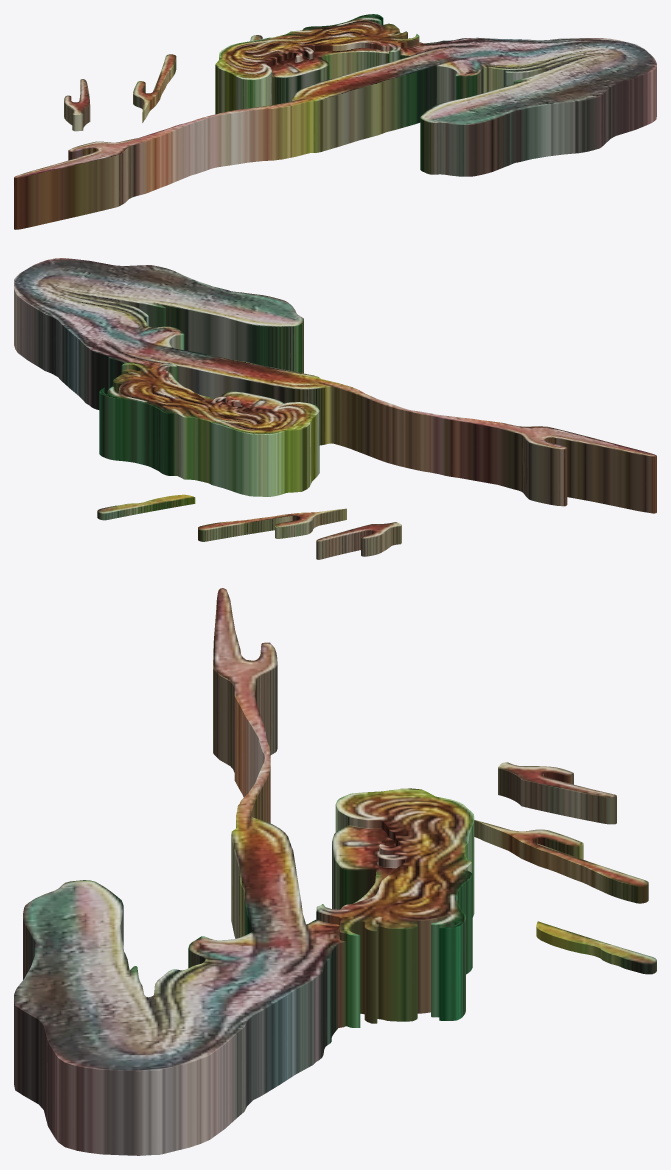
The model's file is por lo nuestro a lo universal 7.dae.
3 renders of one model, top to bottom at view 1: azimuth 30°, elevation 25°; view 2: azimuth 150°, elevation 25°; view 3: azimuth 270°, elevation 25°, orthographic. The views are drawn at different scales.
Visible parts, largest first — view 1: SketchUp (×3); view 2: SketchUp (×4); view 3: SketchUp (×4).
Part boxes in pixels (x1,y1,x2,y2): SketchUp (×3): (14, 14, 656, 229); SketchUp (×4): (14, 258, 656, 559); SketchUp (×4): (14, 588, 656, 1155).
Bounding box in the file's own units: 65.82 × 37.01 × 5.88.
1 material, 1 textured.
